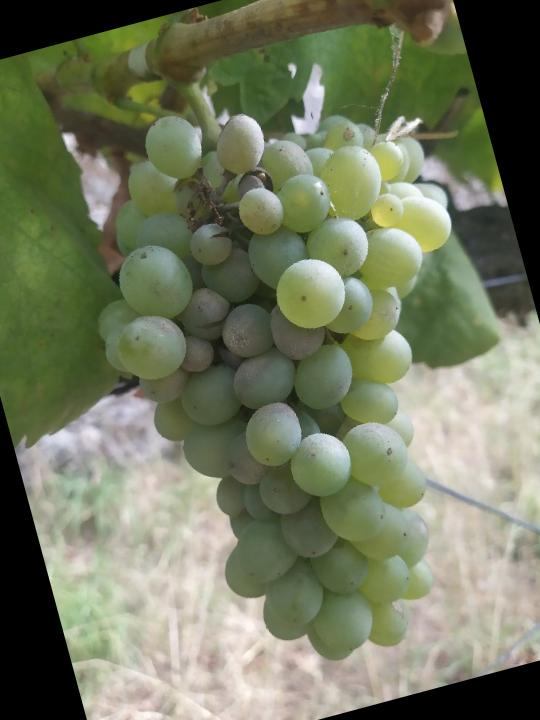grape: (43, 44, 540, 701)
